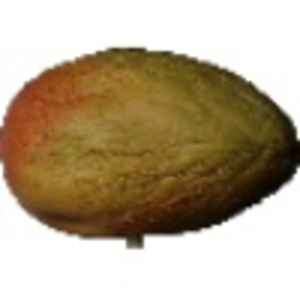mamão: (4, 44, 297, 237)
